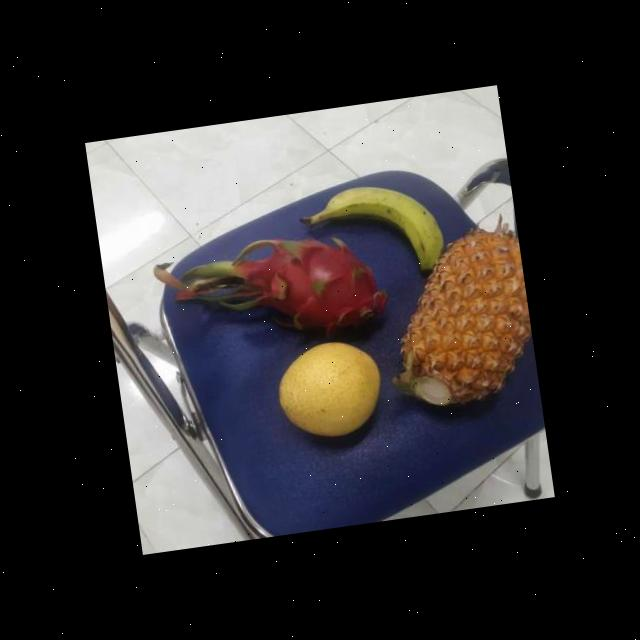banana: (314, 174, 452, 290)
pear: (273, 340, 392, 448)
pineapple: (379, 225, 541, 416)
pitaya: (231, 223, 401, 353)
